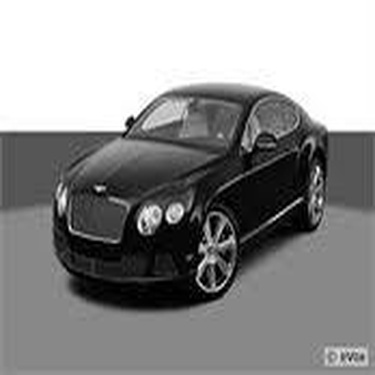car: (41, 74, 336, 313)
